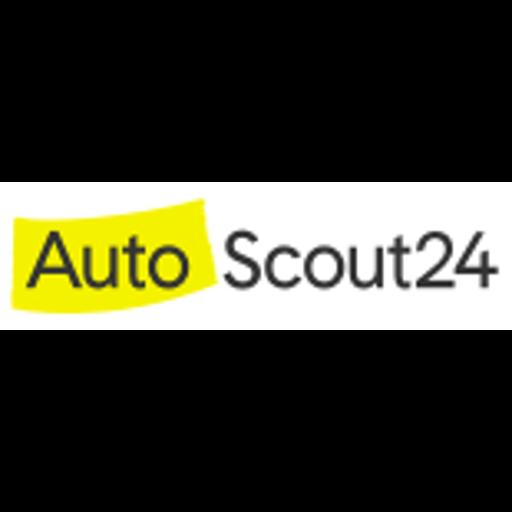AutoScout24: (0, 182, 512, 330)
